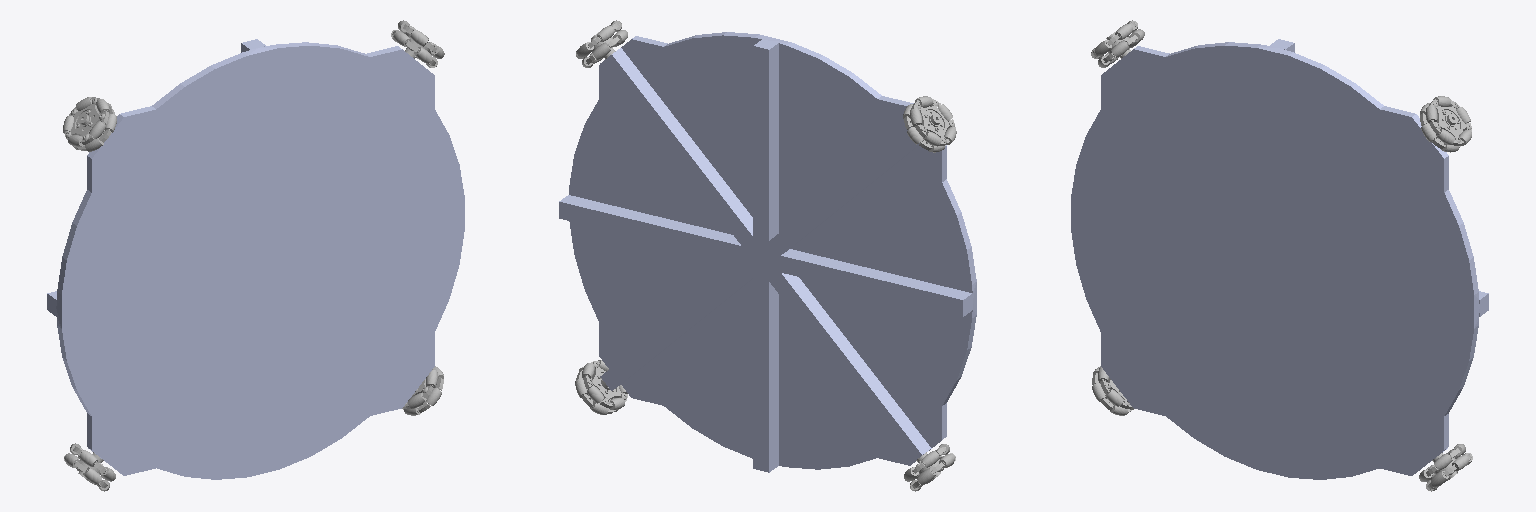
URDF robot description (urdf_robot_v2):
<?xml version="1.0" encoding="utf-8"?>
<!-- This URDF was automatically created by SolidWorks to URDF Exporter! Originally created by [author] ([email redacted]) 
     Commit Version: 1.6.0-4-g7f85cfe  Build Version: 1.6.7995.38578
     For more information, please see http://wiki.ros.org/sw_urdf_exporter -->
<robot
  name="urdf_robot_v2">
  <link
    name="base_link">
    <inertial>
      <origin
        xyz="-0.11878744502835 -0.00950436788509916 0.0821383092403481"
        rpy="0 0 0" />
      <mass
        value="2.83771948238293" />
      <inertia
        ixx="0.0430332674788692"
        ixy="1.40958244208271E-10"
        ixz="2.13042531567189E-07"
        iyy="0.0430332674788692"
        iyz="2.1304253160933E-07"
        izz="0.0857213097167914" />
    </inertial>
    <visual>
      <origin
        xyz="0 0 0"
        rpy="0 0 0" />
      <geometry>
        <mesh
          filename="package://urdf_robot_v2/meshes/base_link.STL" />
      </geometry>
      <material
        name="">
        <color
          rgba="0.792156862745098 0.819607843137255 0.933333333333333 1" />
      </material>
    </visual>
    <collision>
      <origin
        xyz="0 0 0"
        rpy="0 0 0" />
      <geometry>
        <mesh
          filename="package://urdf_robot_v2/meshes/base_link.STL" />
      </geometry>
    </collision>
  </link>
  <link
    name="wheel_1">
    <inertial>
      <origin
        xyz="-1.7538E-06 1.7536E-06 0.0010792"
        rpy="0 0 0" />
      <mass
        value="0.037695" />
      <inertia
        ixx="3.0971E-06"
        ixy="-1.1843E-11"
        ixz="-6.2069E-10"
        iyy="3.0971E-06"
        iyz="6.2066E-10"
        izz="5.3487E-06" />
    </inertial>
    <visual>
      <origin
        xyz="0 0 0"
        rpy="0 0 0" />
      <geometry>
        <mesh
          filename="package://urdf_robot_v2/meshes/wheel_1.STL" />
      </geometry>
      <material
        name="">
        <color
          rgba="0.75294 0.75294 0.75294 1" />
      </material>
    </visual>
    <collision>
      <origin
        xyz="0 0 0"
        rpy="0 0 0" />
      <geometry>
        <mesh
          filename="package://urdf_robot_v2/meshes/wheel_1.STL" />
      </geometry>
    </collision>
  </link>
  <joint
    name="joint_wheel_1"
    type="continuous">
    <origin
      xyz="0.083096 -0.071358 -0.2114"
      rpy="2.5572 -0.559 0.89496" />
    <parent
      link="base_link" />
    <child
      link="wheel_1" />
    <axis
      xyz="0 0 1" />
  </joint>
  <link
    name="wheel_2">
    <inertial>
      <origin
        xyz="-1.7538E-06 1.7536E-06 0.057179"
        rpy="0 0 0" />
      <mass
        value="0.037695" />
      <inertia
        ixx="3.0971E-06"
        ixy="4.9042E-11"
        ixz="-6.2069E-10"
        iyy="3.0972E-06"
        iyz="6.2066E-10"
        izz="5.3488E-06" />
    </inertial>
    <visual>
      <origin
        xyz="0 0 0"
        rpy="0 0 0" />
      <geometry>
        <mesh
          filename="package://urdf_robot_v2/meshes/wheel_2.STL" />
      </geometry>
      <material
        name="">
        <color
          rgba="0.75294 0.75294 0.75294 1" />
      </material>
    </visual>
    <collision>
      <origin
        xyz="0 0 0"
        rpy="0 0 0" />
      <geometry>
        <mesh
          filename="package://urdf_robot_v2/meshes/wheel_2.STL" />
      </geometry>
    </collision>
  </link>
  <joint
    name="joint_wheel_2"
    type="continuous">
    <origin
      xyz="0.043427 -0.07138 0.15271"
      rpy="0.42925 0.67987 0.6293" />
    <parent
      link="base_link" />
    <child
      link="wheel_2" />
    <axis
      xyz="0 0 1" />
  </joint>
  <link
    name="wheel_3">
    <inertial>
      <origin
        xyz="-1.7538E-06 1.7536E-06 0.0010792"
        rpy="0 0 0" />
      <mass
        value="0.037695" />
      <inertia
        ixx="3.0972E-06"
        ixy="-5.1012E-11"
        ixz="-6.207E-10"
        iyy="3.0972E-06"
        iyz="6.2066E-10"
        izz="5.3488E-06" />
    </inertial>
    <visual>
      <origin
        xyz="0 0 0"
        rpy="0 0 0" />
      <geometry>
        <mesh
          filename="package://urdf_robot_v2/meshes/wheel_3.STL" />
      </geometry>
      <material
        name="">
        <color
          rgba="0.75294 0.75294 0.75294 1" />
      </material>
    </visual>
    <collision>
      <origin
        xyz="0 0 0"
        rpy="0 0 0" />
      <geometry>
        <mesh
          filename="package://urdf_robot_v2/meshes/wheel_3.STL" />
      </geometry>
    </collision>
  </link>
  <joint
    name="joint_wheel_3"
    type="continuous">
    <origin
      xyz="-0.32068 -0.071358 0.19238"
      rpy="0 -0.7854 0" />
    <parent
      link="base_link" />
    <child
      link="wheel_3" />
    <axis
      xyz="0 0 1" />
  </joint>
  <link
    name="wheel_4">
    <inertial>
      <origin
        xyz="-1.7538E-06 1.7536E-06 0.045884"
        rpy="0 0 0" />
      <mass
        value="0.037695" />
      <inertia
        ixx="3.0972E-06"
        ixy="-1.4853E-11"
        ixz="-6.207E-10"
        iyy="3.0973E-06"
        iyz="6.2066E-10"
        izz="5.3489E-06" />
    </inertial>
    <visual>
      <origin
        xyz="0 0 0"
        rpy="0 0 0" />
      <geometry>
        <mesh
          filename="package://urdf_robot_v2/meshes/wheel_4.STL" />
      </geometry>
      <material
        name="">
        <color
          rgba="0.75294 0.75294 0.75294 1" />
      </material>
    </visual>
    <collision>
      <origin
        xyz="0 0 0"
        rpy="0 0 0" />
      <geometry>
        <mesh
          filename="package://urdf_robot_v2/meshes/wheel_4.STL" />
      </geometry>
    </collision>
  </link>
  <joint
    name="joint_wheel_4"
    type="continuous">
    <origin
      xyz="-0.289 -0.071358 -0.17972"
      rpy="-2.3563 0.013593 1.5572" />
    <parent
      link="base_link" />
    <child
      link="wheel_4" />
    <axis
      xyz="0 0 1" />
  </joint>
</robot>

--- What the picture shows (computed from the rendered views, not written in the file) ---
The picture shows the robot from 3 angles, left to right: view 1: azimuth 30°, elevation 25°; view 2: azimuth 150°, elevation 25°; view 3: azimuth 330°, elevation 25°; orthographic projection.
Robot: urdf_robot_v2 — 5 links, 4 joints (4 continuous); root link base_link; default pose: every joint at zero.
Links seen in each view (by area): view 1: base_link, wheel_3, wheel_2, wheel_4, wheel_1; view 2: base_link, wheel_3, wheel_1, wheel_2, wheel_4; view 3: base_link, wheel_2, wheel_3, wheel_1, wheel_4.
Link boxes in pixels (x1,y1,x2,y2): base_link: (47, 39, 464, 479); wheel_3: (63, 97, 116, 151); wheel_2: (391, 20, 444, 67); wheel_4: (64, 443, 115, 491); wheel_1: (402, 366, 443, 415); base_link: (559, 32, 976, 472); wheel_3: (903, 96, 956, 152); wheel_1: (575, 360, 627, 414); wheel_2: (576, 20, 627, 67); wheel_4: (904, 444, 955, 491); base_link: (1071, 39, 1488, 479); wheel_2: (1420, 96, 1471, 152); wheel_3: (1091, 20, 1144, 67); wheel_1: (1419, 444, 1472, 491); wheel_4: (1092, 366, 1133, 415).
Size in the robot's own frame: 0.5 by 0.0608 by 0.5 metres.
Meshes: 5 distinct files referenced, 5 mesh visuals loaded (5 binary STL).